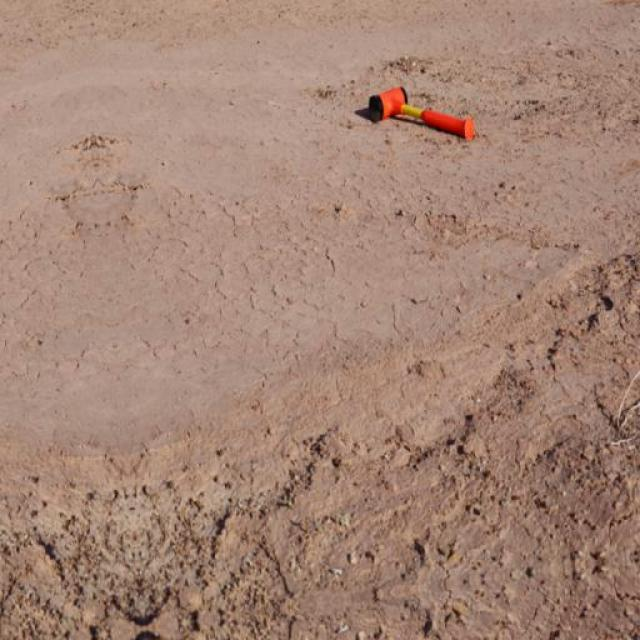mallet: (366, 84, 476, 140)
